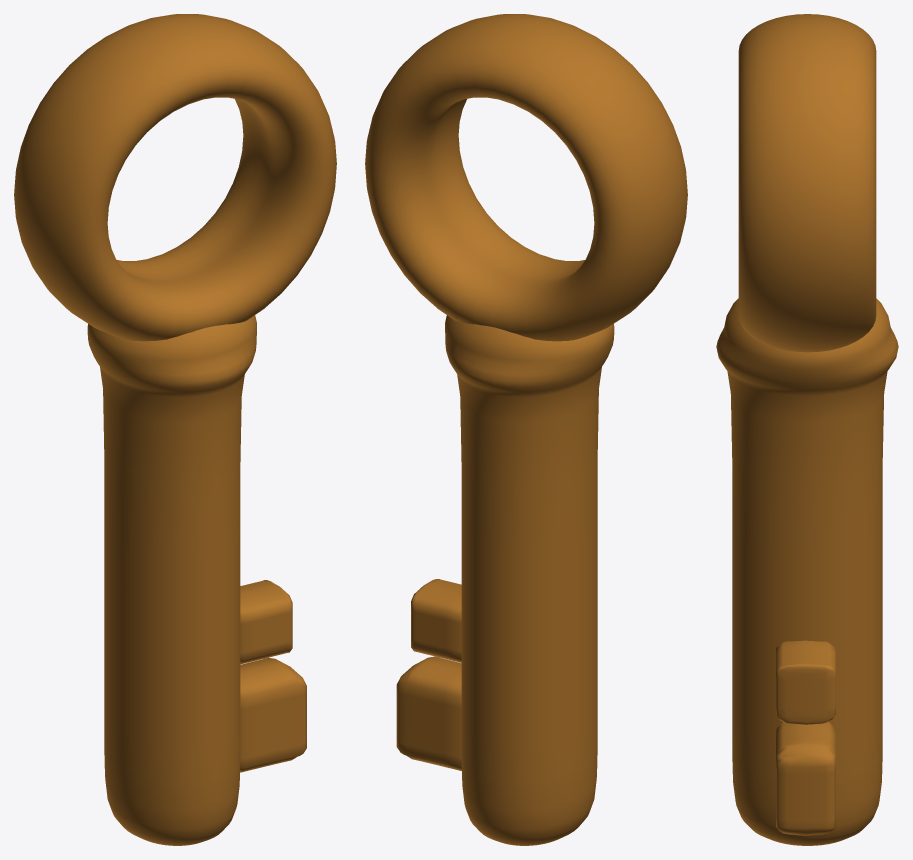
The model's file is Project2Key.fbx.
3 renders of one model, left to right at view 1: azimuth 30°, elevation 25°; view 2: azimuth 150°, elevation 25°; view 3: azimuth 270°, elevation 25°, orthographic.
Parts seen in each view (by area): view 1: Key; view 2: Key; view 3: Key.
Boxes of the visible parts, box(x1,y1,x2,y2) form: Key: box(14, 14, 336, 845); Key: box(365, 14, 687, 845); Key: box(716, 14, 898, 845).
Bounding box in the file's own units: 0.5629 × 1.48 × 0.3029.
